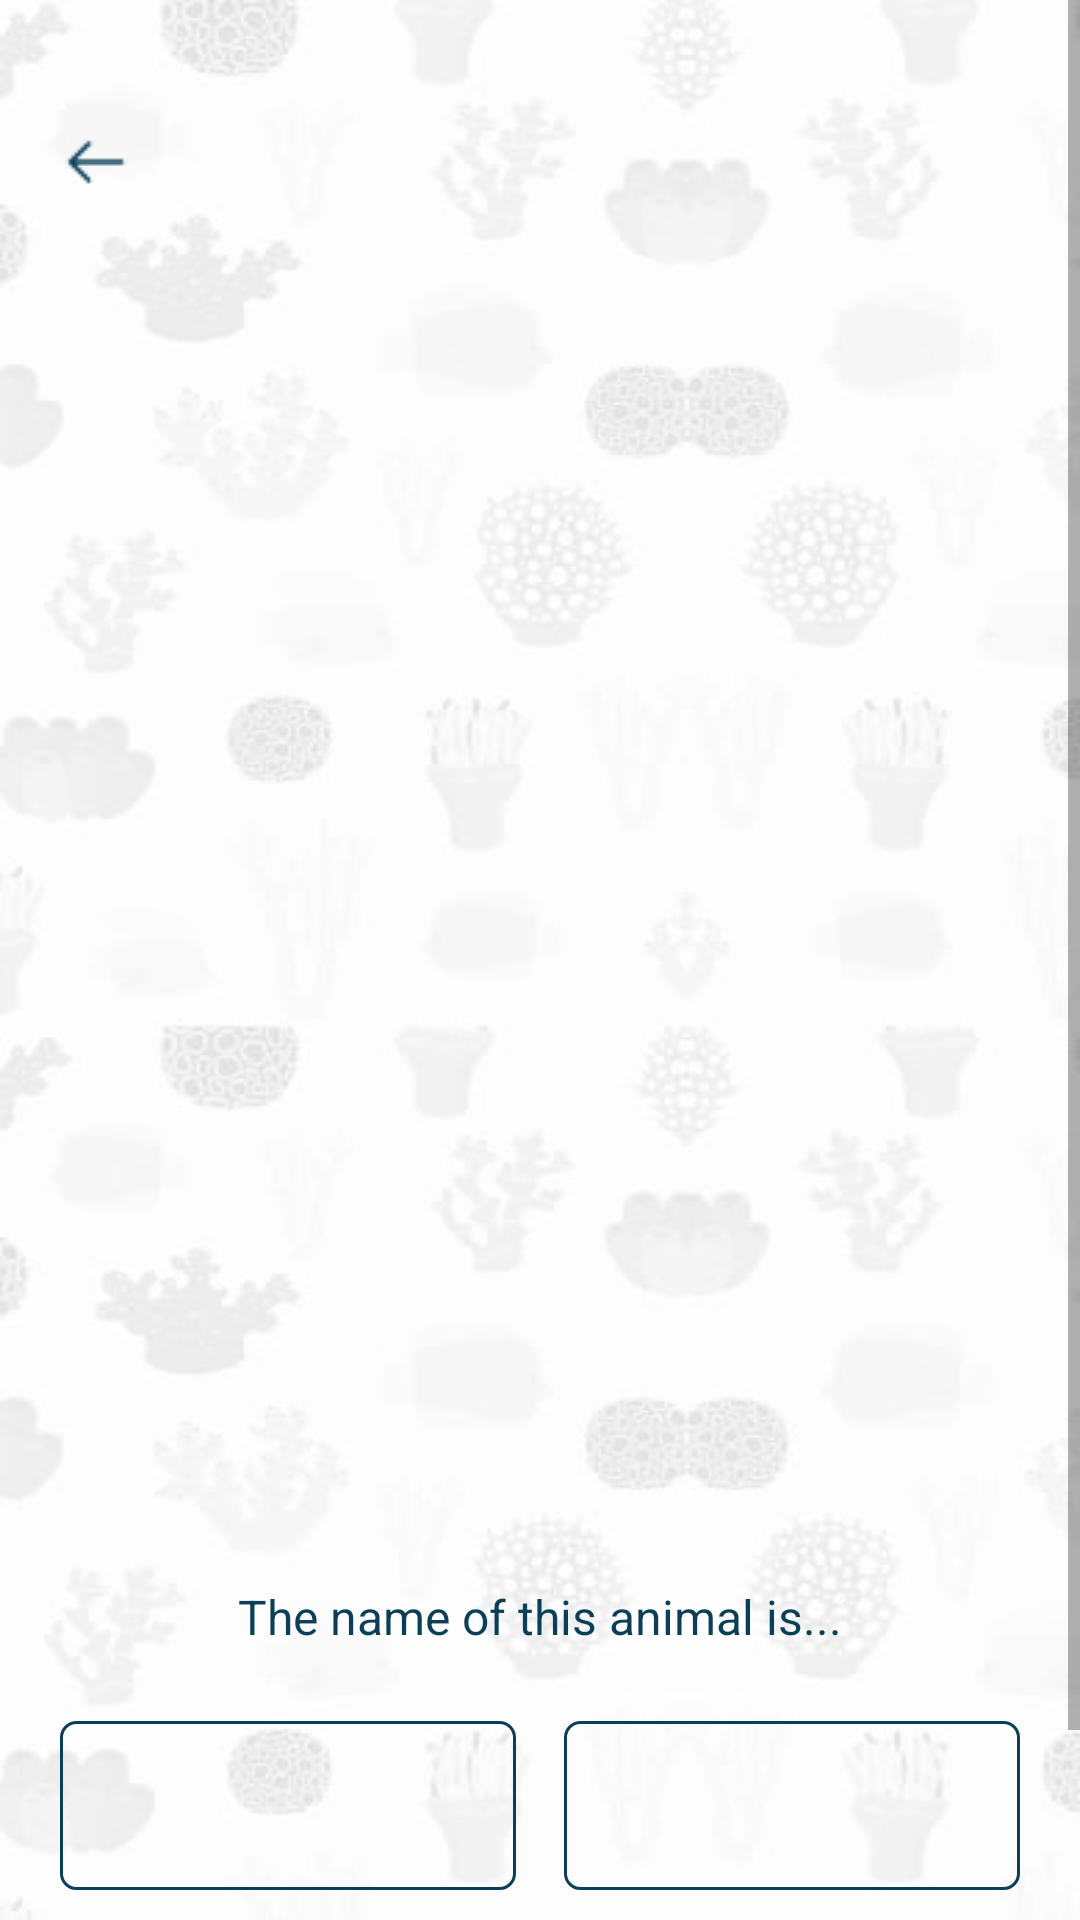

Named icons in this screenshot (1080 × 1920) and their centers, [x,y]:
back: [96,162]
